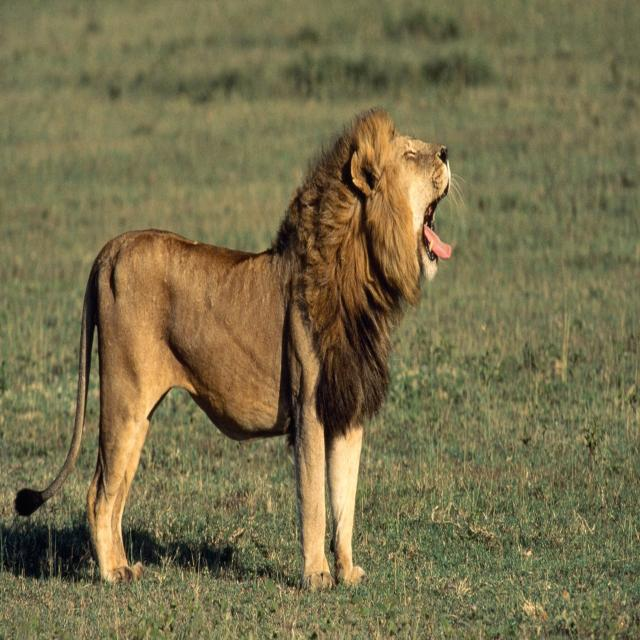Lion: (43, 106, 454, 588)
